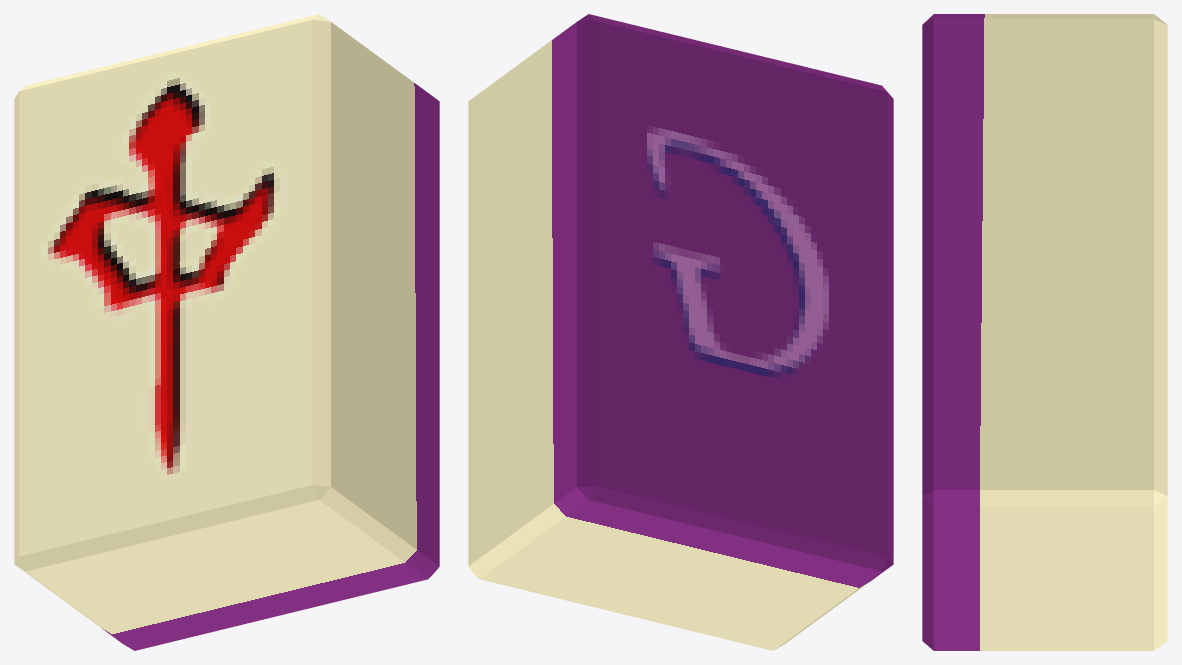
The model's file is ps2_save-icons_g-tastemahjong.glb.
3 renders of one model, left to right at view 1: azimuth 30°, elevation 25°; view 2: azimuth 150°, elevation 25°; view 3: azimuth 270°, elevation 25°, orthographic.
Visible parts, largest first — view 1: HAI.ICO; view 2: HAI.ICO; view 3: HAI.ICO.
Part boxes in pixels (x1,y1,x2,y2): HAI.ICO: [14, 14, 439, 650]; HAI.ICO: [468, 14, 893, 650]; HAI.ICO: [922, 14, 1167, 650].
Size of the model in its own units: 3.41 by 5 by 2.26.
Materials: 1 (1 with a texture image).
